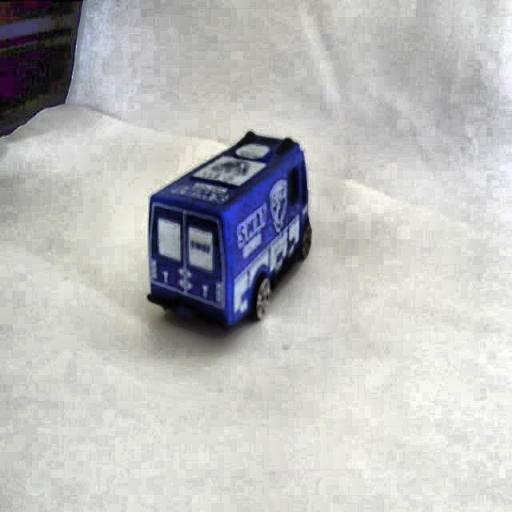police car: (148, 112, 314, 344)
